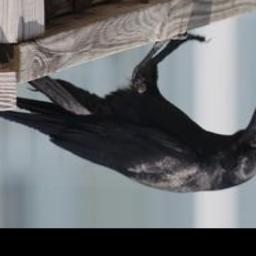Crow: (0, 33, 256, 195)
